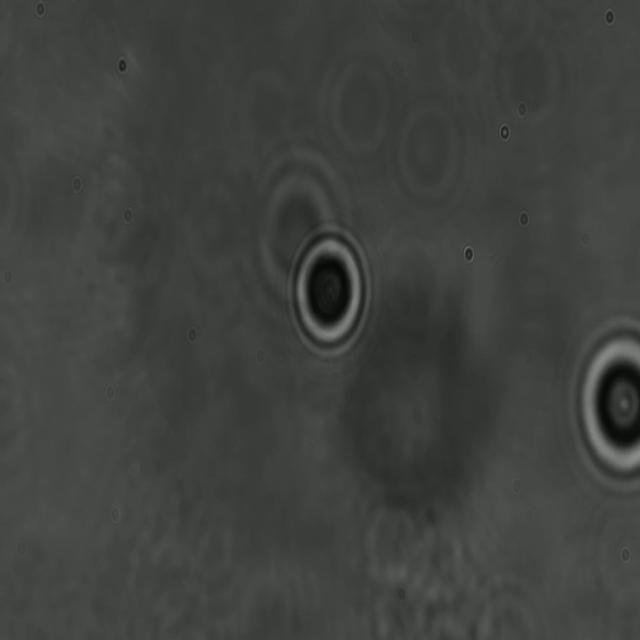DCELL: (288, 225, 370, 361)
